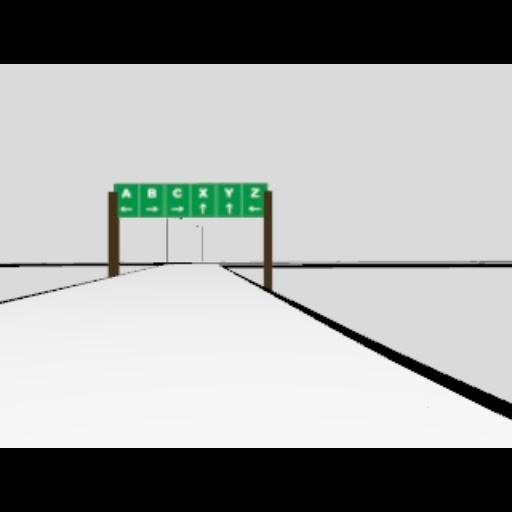A: (120, 187, 132, 197)
B: (145, 188, 155, 198)
C: (172, 187, 182, 197)
Left: (247, 205, 261, 211), (119, 205, 133, 211)
Right: (144, 205, 158, 211), (170, 205, 184, 211)
Straight: (224, 202, 232, 214), (198, 202, 206, 214)
Y: (222, 186, 234, 196), (196, 187, 208, 197)
Z: (250, 186, 260, 196)
